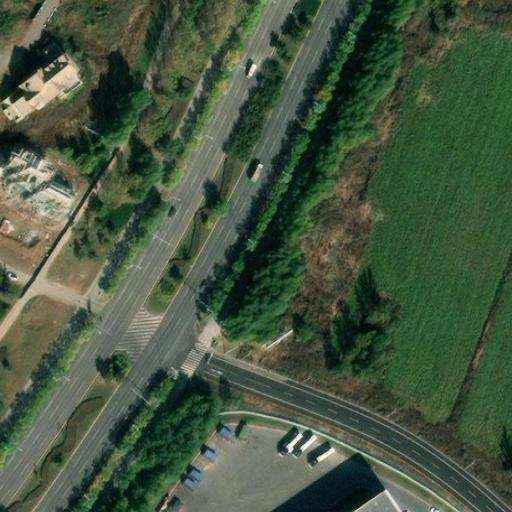building: (4, 141, 48, 182), (336, 489, 402, 512), (40, 181, 77, 216), (178, 463, 206, 491)
